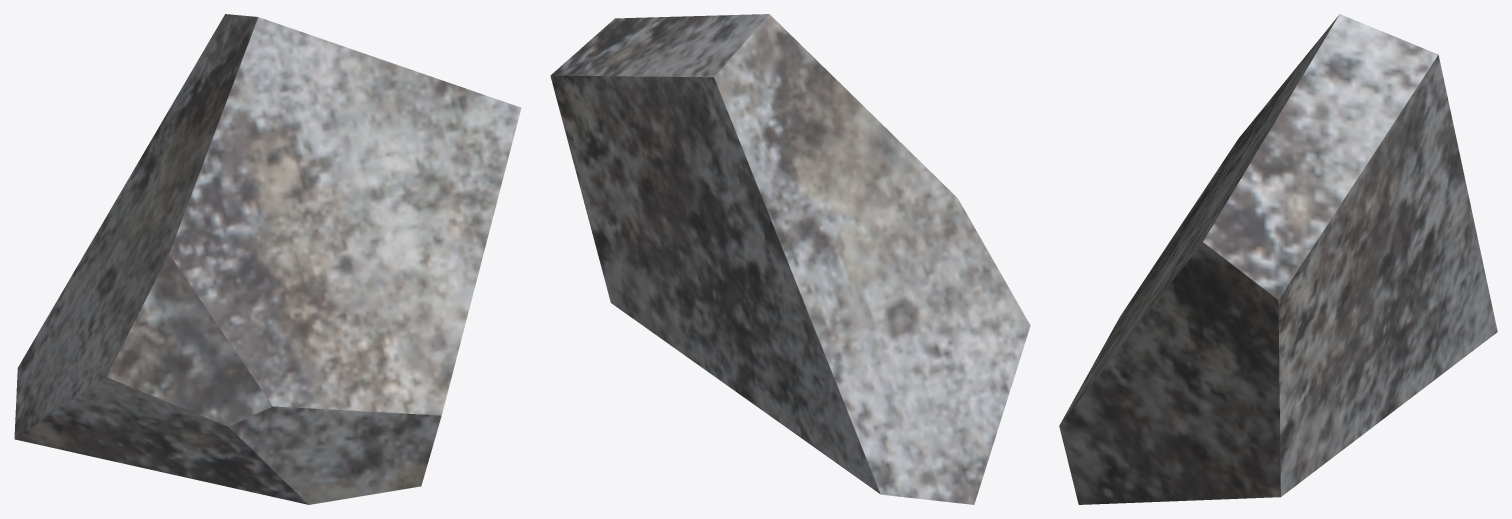
Rendered from Asteroid_Large_001_02_009_03_008.fbx.
3 views of the same model, side by side, from view 1: azimuth 30°, elevation 25°; view 2: azimuth 150°, elevation 25°; view 3: azimuth 270°, elevation 25° (orthographic). The views are drawn at different scales.
Visible parts, largest first — view 1: Asteroid_Large_001_02_009_03_008; view 2: Asteroid_Large_001_02_009_03_008; view 3: Asteroid_Large_001_02_009_03_008.
Boxes of the visible parts, box(x1,y1,x2,y2) form: Asteroid_Large_001_02_009_03_008: box(14, 14, 521, 504); Asteroid_Large_001_02_009_03_008: box(550, 14, 1030, 504); Asteroid_Large_001_02_009_03_008: box(1059, 14, 1497, 504).
Size of the model in its own units: 6.3 by 5.47 by 4.59.
